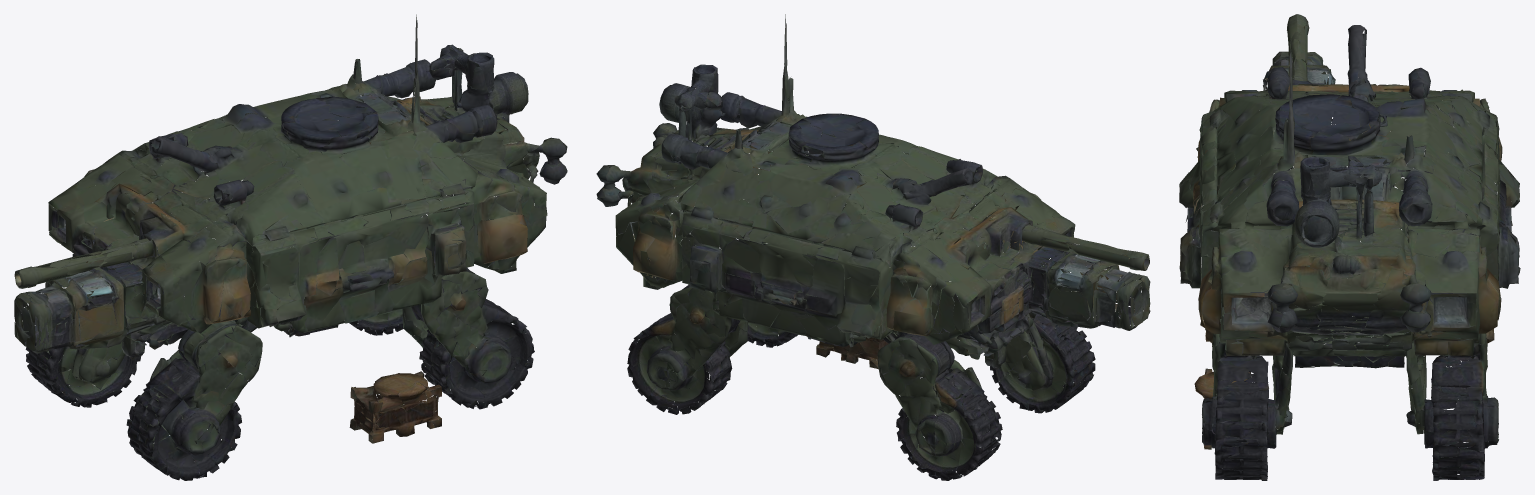
File: ironclad.glb
3 renders of one model, left to right at view 1: azimuth 30°, elevation 25°; view 2: azimuth 150°, elevation 25°; view 3: azimuth 270°, elevation 25°, orthographic. The views are drawn at different scales.
Visible parts, largest first — view 1: Mesh_0; view 2: Mesh_0; view 3: Mesh_0.
Boxes of the visible parts, x1,y1,x2,y2 form: Mesh_0: [14, 14, 567, 480]; Mesh_0: [596, 14, 1150, 480]; Mesh_0: [1179, 14, 1520, 480].
Bounding box in the file's own units: 1.91 × 1.28 × 0.9615.
Materials: 1 (1 with a texture image).
